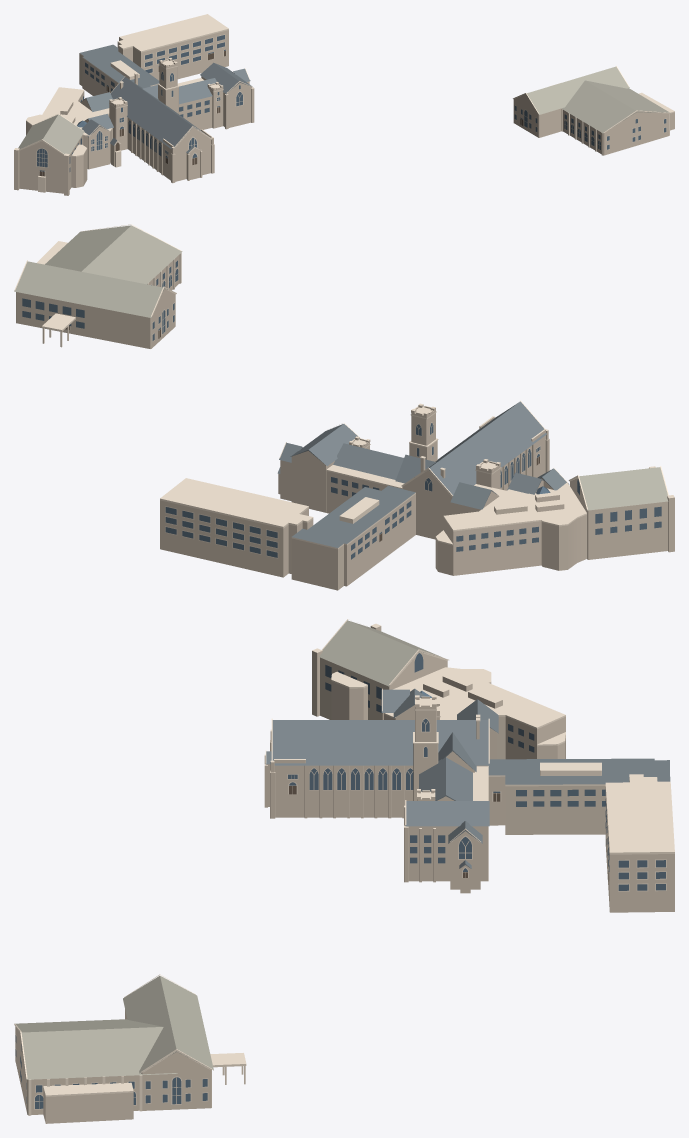
The model's file is clt-myers-park-presbyterian.glb.
3 views of the same model, one above another, from view 1: azimuth 30°, elevation 25°; view 2: azimuth 150°, elevation 25°; view 3: azimuth 270°, elevation 25° (orthographic). The views are drawn at different scales.
Visible parts, largest first — view 1: Myers Park Presbyterian Church; view 2: Myers Park Presbyterian Church; view 3: Myers Park Presbyterian Church.
Boxes of the visible parts, x1=… form: Myers Park Presbyterian Church: x1=14, y1=14, x2=674, y2=195; Myers Park Presbyterian Church: x1=14, y1=224, x2=674, y2=590; Myers Park Presbyterian Church: x1=14, y1=619, x2=674, y2=1123.
Size of the model in its own units: 266 by 34.35 by 171.
